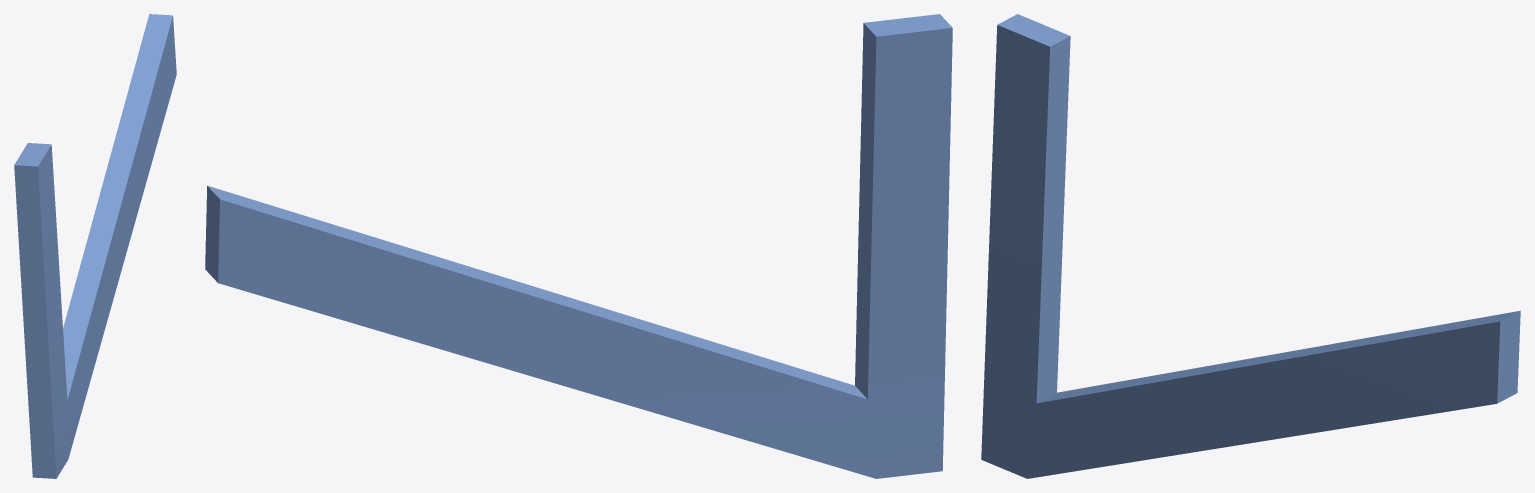
File: New_Number_7.gltf
3 views of the same model, side by side, from view 1: azimuth 30°, elevation 25°; view 2: azimuth 150°, elevation 25°; view 3: azimuth 270°, elevation 25° (orthographic). The views are drawn at different scales.
Visible parts, largest first — view 1: Part 349; view 2: Part 349; view 3: Part 349.
Boxes of the visible parts, x1,y1,x2,y2 form: Part 349: (14,14,176,478); Part 349: (205,14,952,478); Part 349: (981,14,1520,478).
Size of the model in its own units: 0.00415 by 0.00366 by 0.0042.
